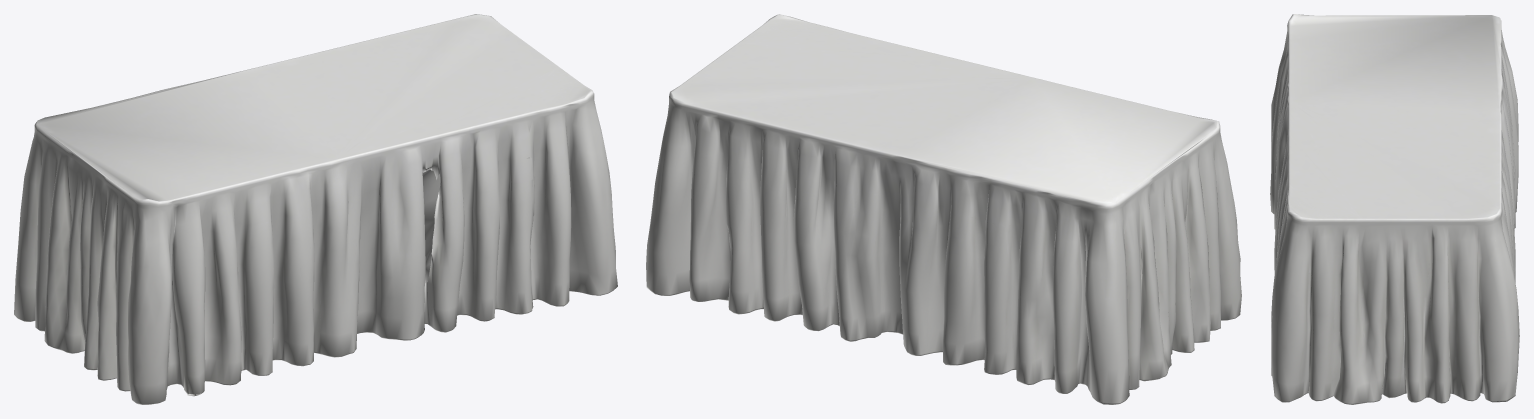
File: Head_Table_8ft_Skirted_30InchesTall_0222194014_texture.glb
The picture shows the model from 3 angles, left to right: view 1: azimuth 30°, elevation 25°; view 2: azimuth 150°, elevation 25°; view 3: azimuth 270°, elevation 25°; orthographic projection. The views are drawn at different scales.
Parts seen in each view (by area): view 1: Mesh_0; view 2: Mesh_0; view 3: Mesh_0.
Boxes of the visible parts, x1,y1,x2,y2 form: Mesh_0: [14, 14, 617, 404]; Mesh_0: [646, 14, 1241, 404]; Mesh_0: [1270, 14, 1519, 404].
Bounding box in the file's own units: 1.98 × 0.762 × 0.9494.
Materials: 1 (1 with a texture image).
